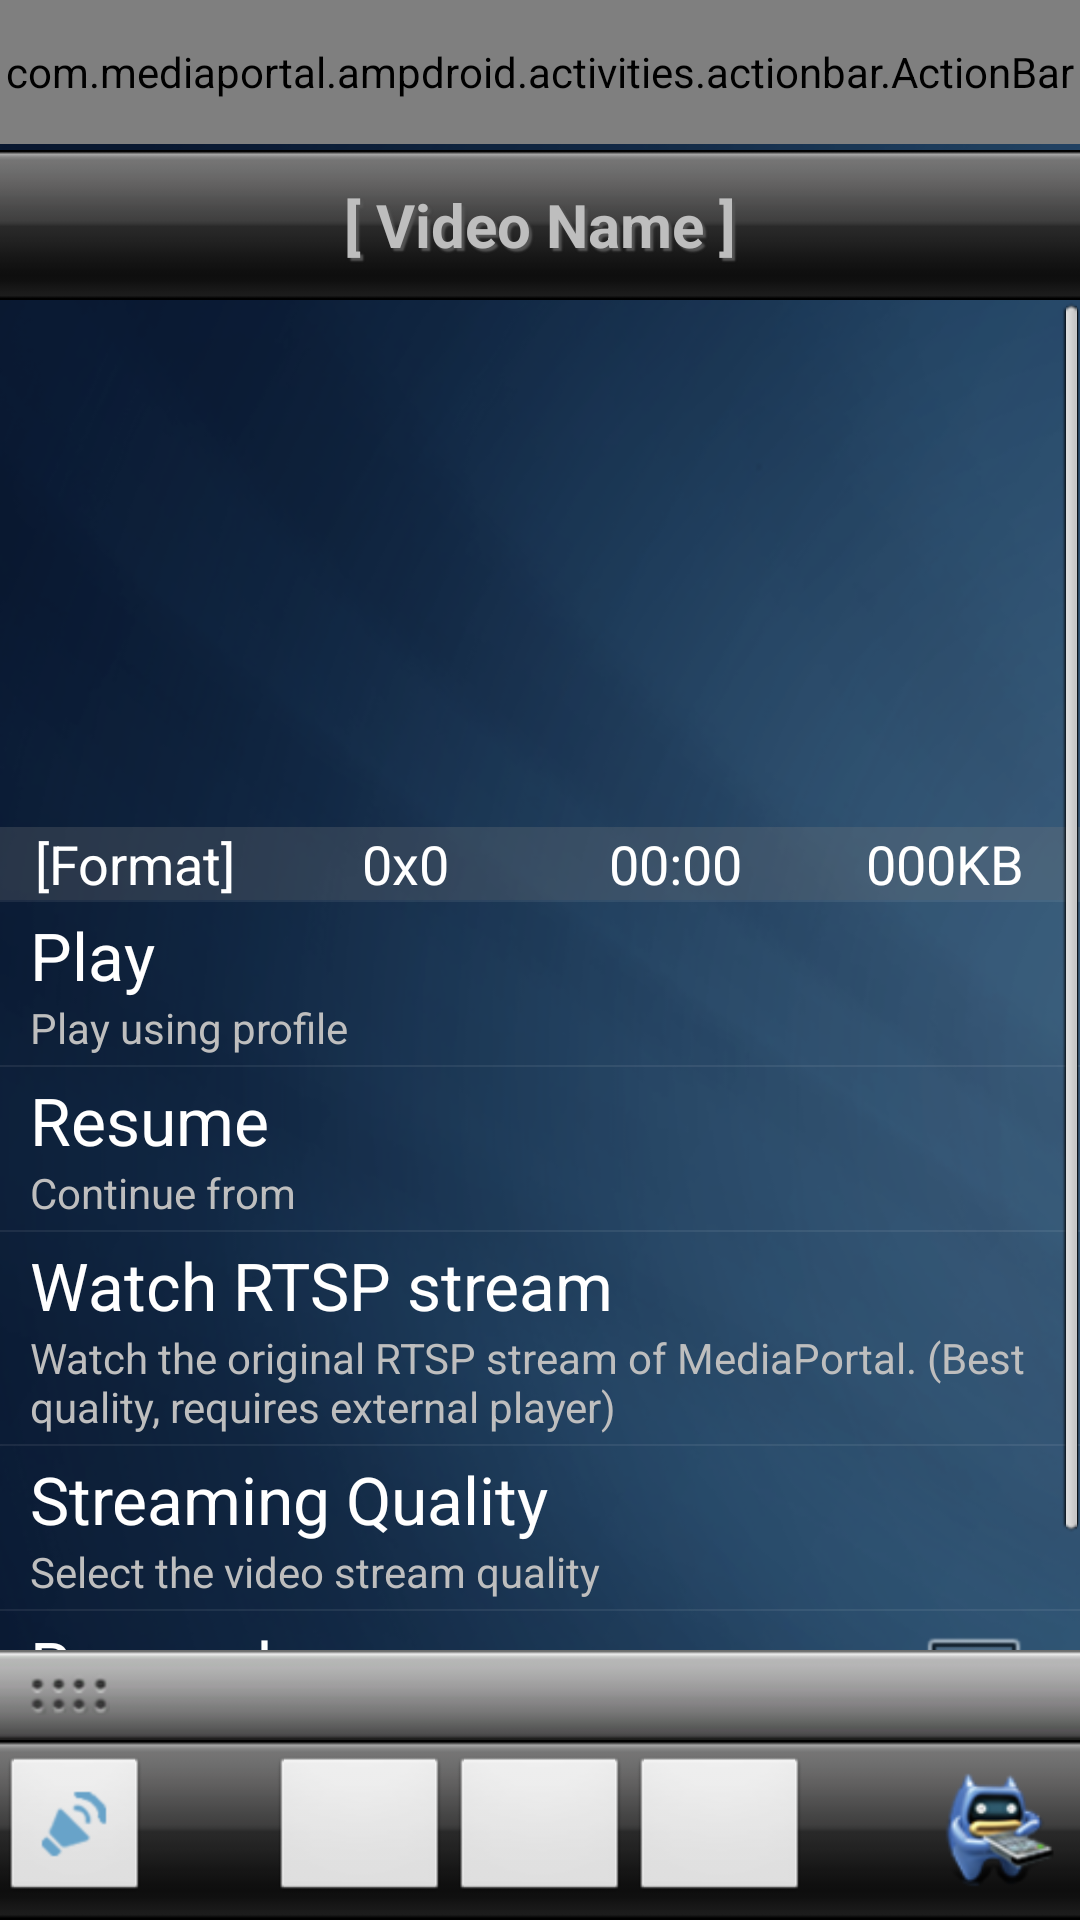

Icon click points for this 1080w x 1920h phone screenshot, format (x=x, y=y):
slidingdrawer: (x=70, y=1695)
volume: (x=75, y=1830)
